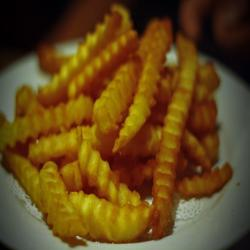fries: (12, 26, 219, 229)
